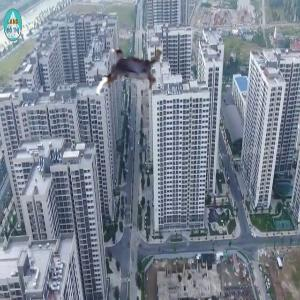drone: (93, 33, 172, 112)
